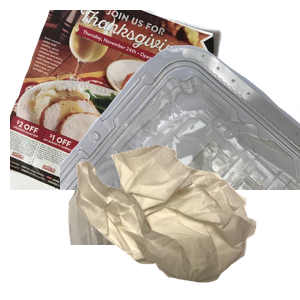glass: (61, 120, 287, 300)
paper: (10, 10, 224, 190)
plastic: (60, 43, 300, 223)
trash: (73, 142, 300, 300)
